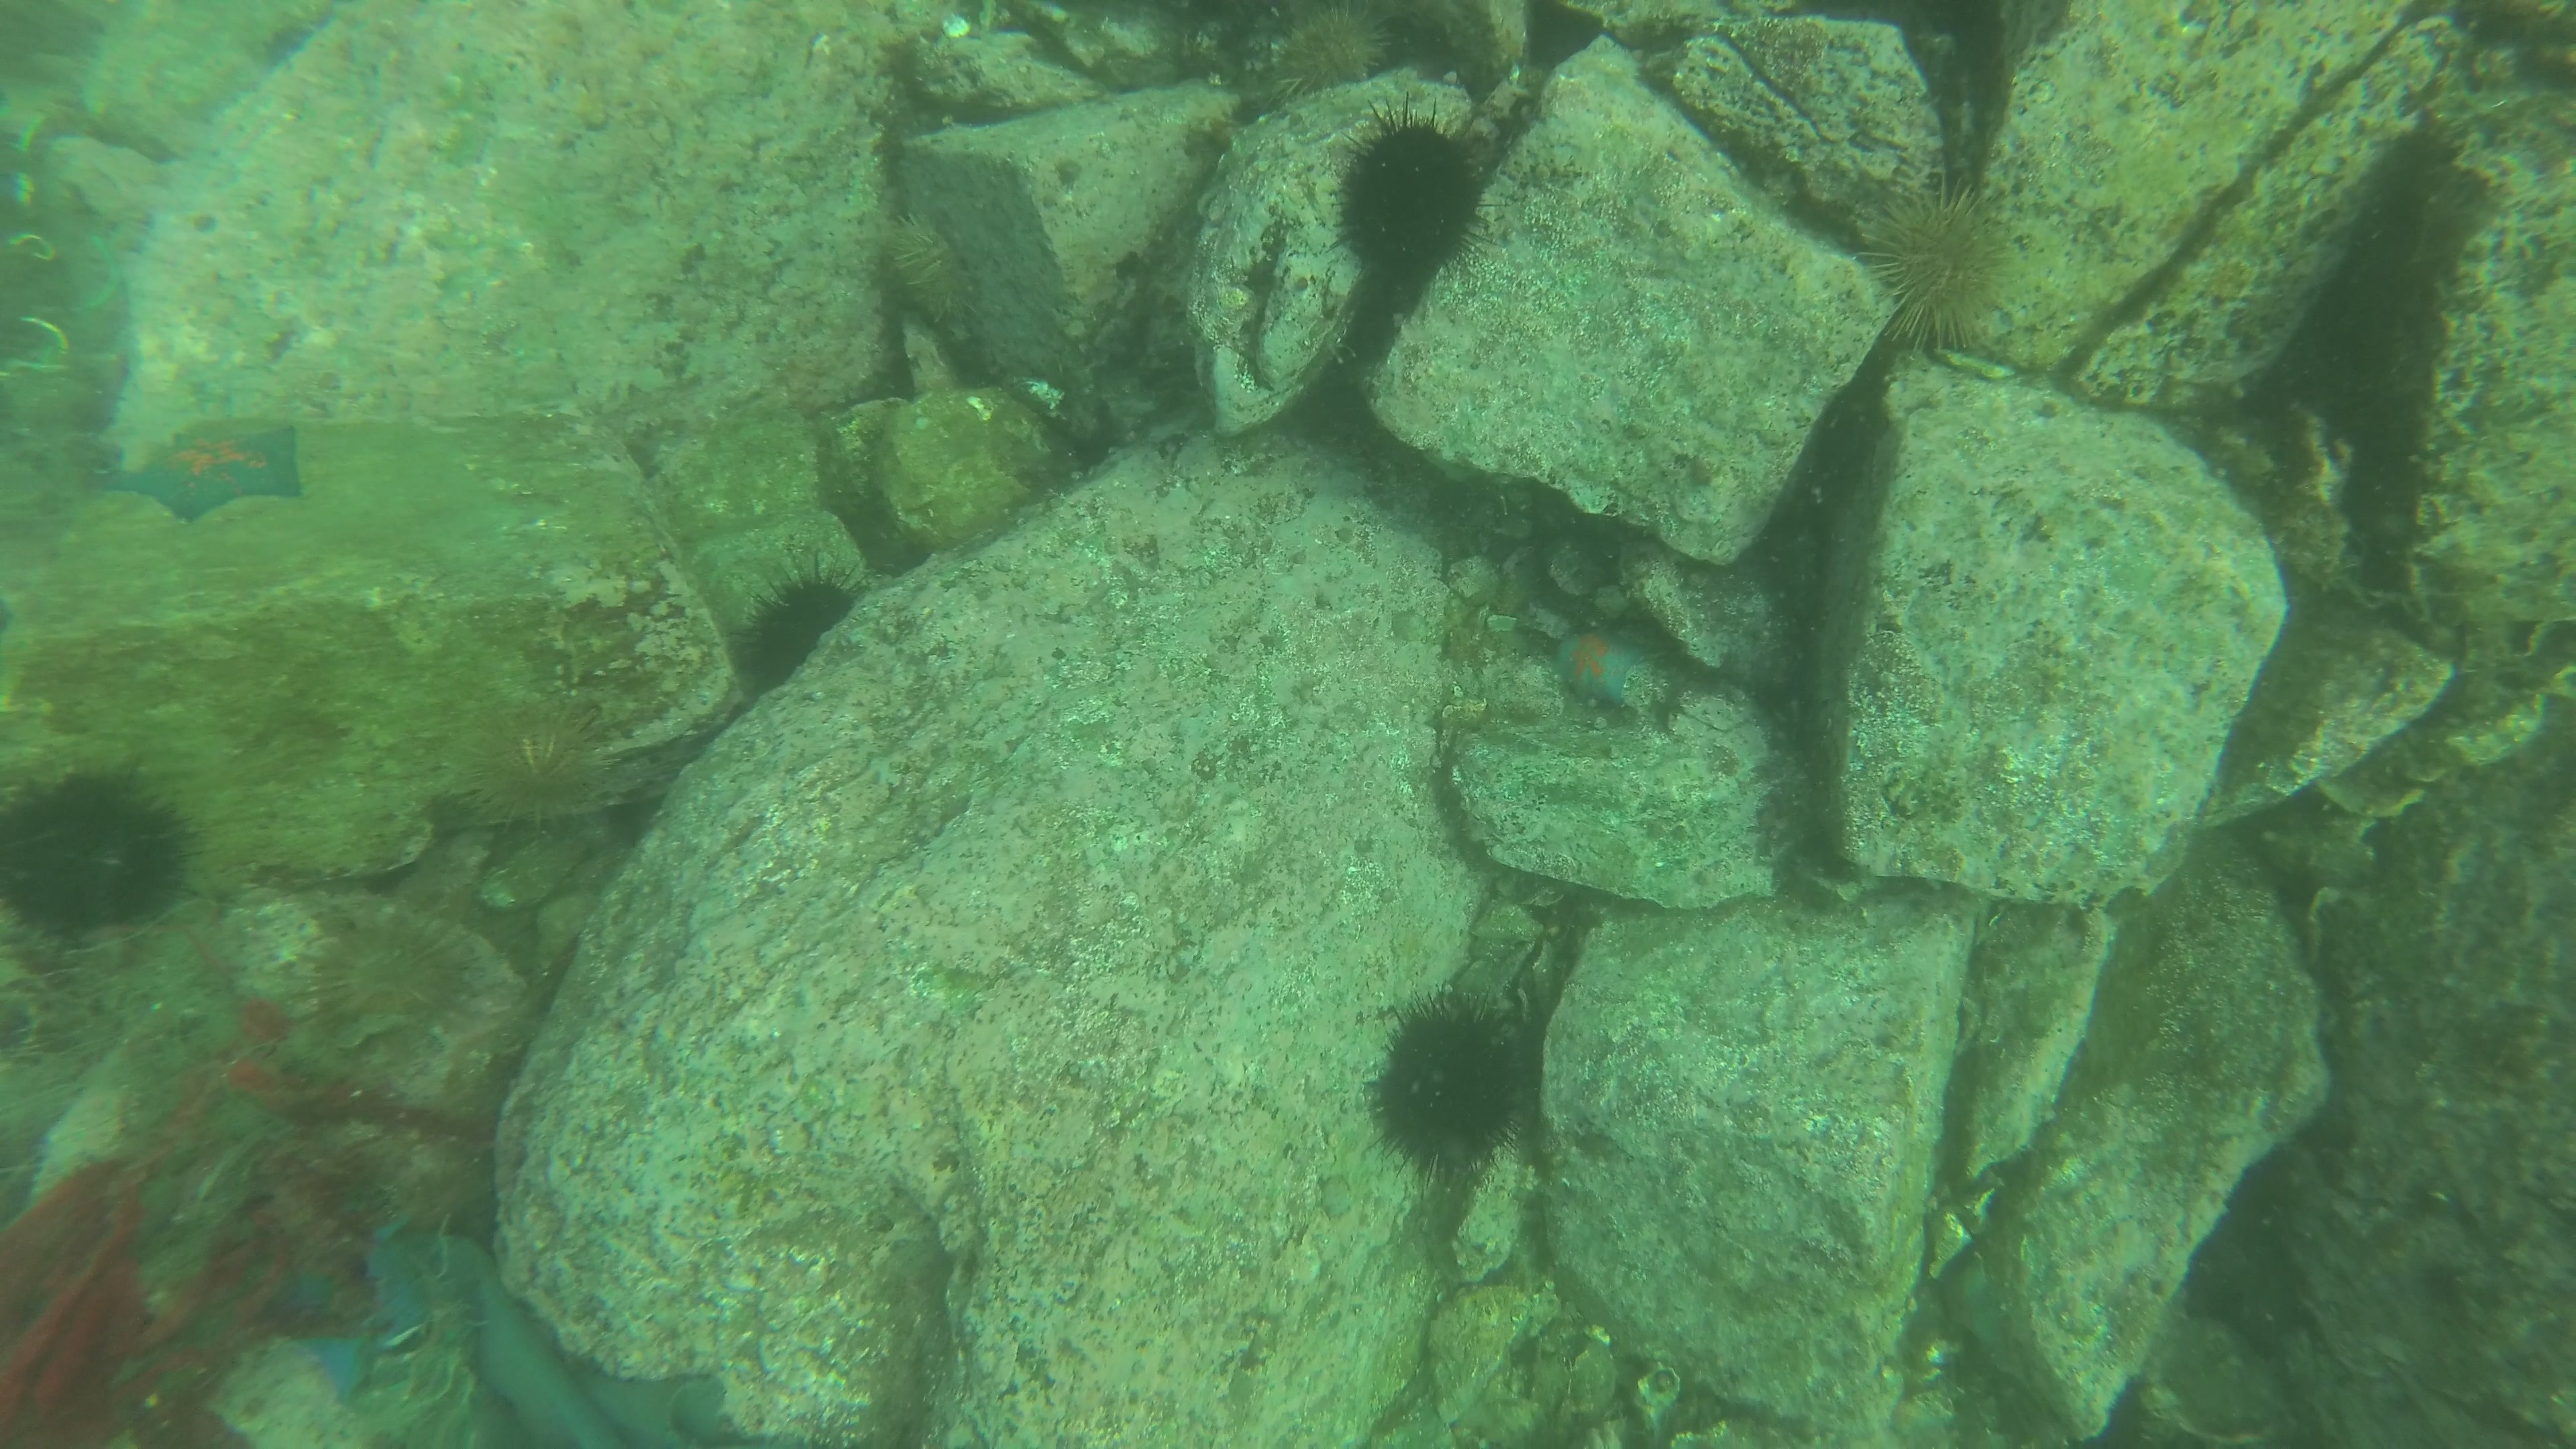echinus: (1851, 179, 2029, 372), (0, 757, 191, 936), (1325, 97, 1490, 299), (1376, 980, 1534, 1189), (290, 922, 483, 1063), (456, 711, 617, 844), (725, 557, 878, 697), (1279, 0, 1394, 94), (886, 205, 975, 306)
starfish: (106, 412, 317, 518), (1552, 619, 1651, 711)
